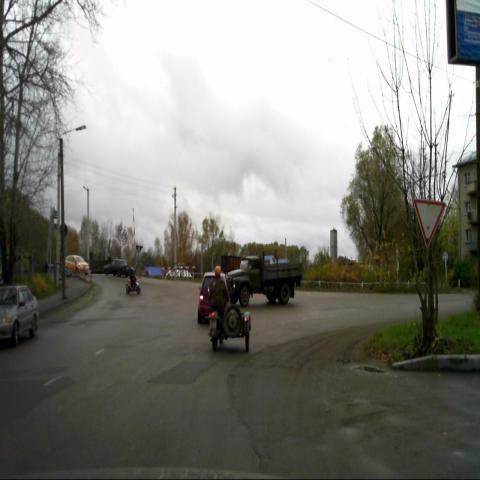2_4: (413, 197, 445, 249)
